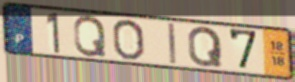1: (45, 12, 62, 55)
7: (227, 27, 259, 73)
I: (166, 21, 178, 66)
O: (110, 18, 146, 62)
Q: (187, 25, 225, 68), (72, 14, 108, 58)
